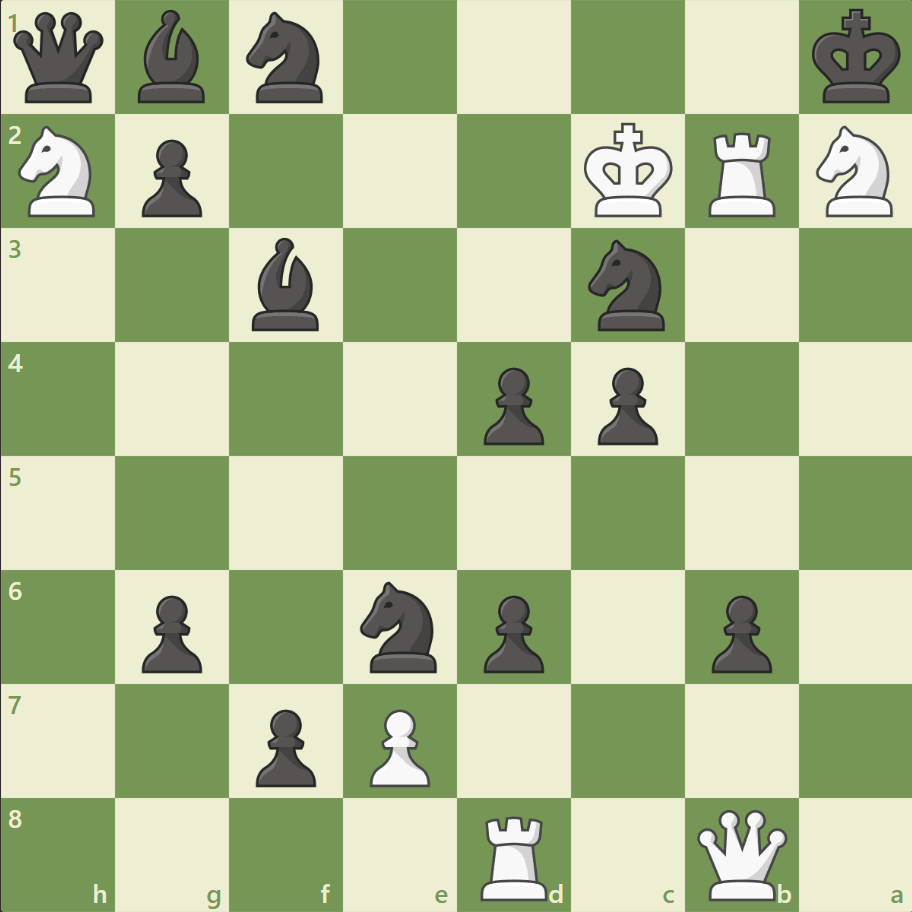K: (579, 117, 679, 225)
N: (806, 121, 903, 223), (11, 121, 108, 223)
P: (361, 700, 435, 791)
Q: (691, 804, 790, 903)
R: (473, 806, 556, 904), (700, 125, 783, 222)
b: (244, 233, 328, 336), (131, 6, 215, 109)
k: (806, 4, 906, 112)
n: (351, 575, 449, 677), (579, 234, 676, 337), (238, 7, 335, 110)
p: (247, 700, 322, 791), (701, 586, 776, 677), (474, 586, 549, 677), (133, 586, 208, 677), (474, 359, 549, 450), (133, 132, 208, 223), (588, 359, 662, 450)
q: (10, 9, 109, 108)
